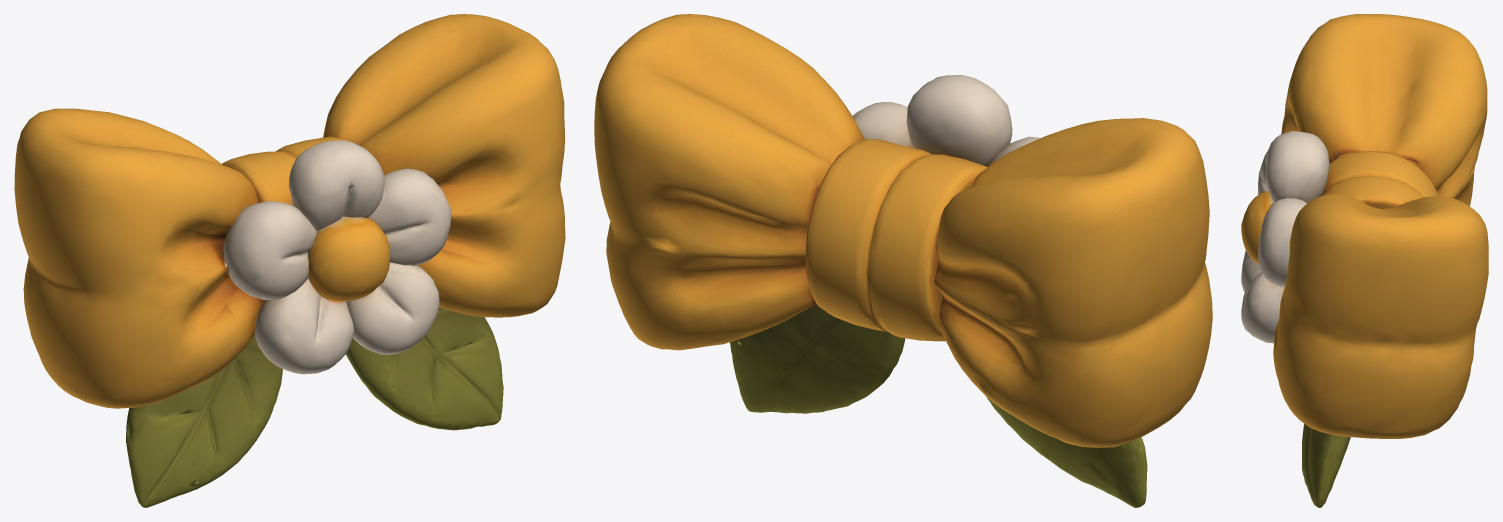
Rendered from mem_ac_bowflower.fbx.
The picture shows the model from 3 angles, left to right: view 1: azimuth 30°, elevation 25°; view 2: azimuth 150°, elevation 25°; view 3: azimuth 270°, elevation 25°; orthographic projection. The views are drawn at different scales.
Visible parts, largest first — view 1: tripo_node_527529e6; view 2: tripo_node_527529e6; view 3: tripo_node_527529e6.
Boxes of the visible parts, x1=… form: tripo_node_527529e6: x1=14, y1=14, x2=565, y2=507; tripo_node_527529e6: x1=594, y1=14, x2=1212, y2=507; tripo_node_527529e6: x1=1241, y1=14, x2=1488, y2=507.
Size of the model in its own units: 0.998 by 0.6738 by 0.4707.
